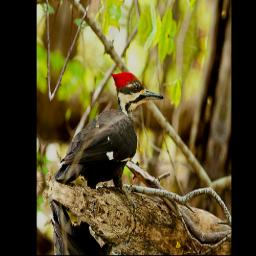Woodpecker: (53, 49, 167, 222)
